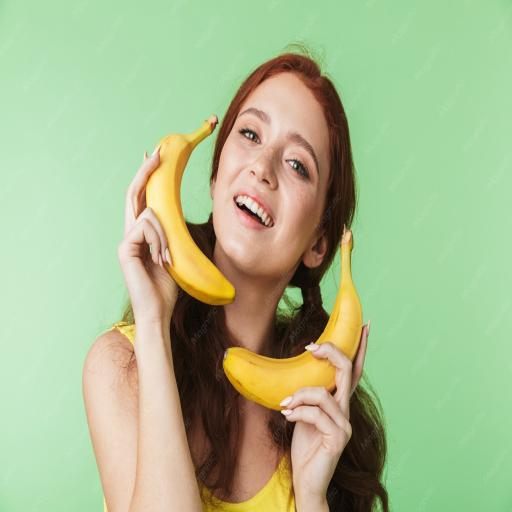banana: (146, 115, 235, 305), (317, 228, 362, 360)
